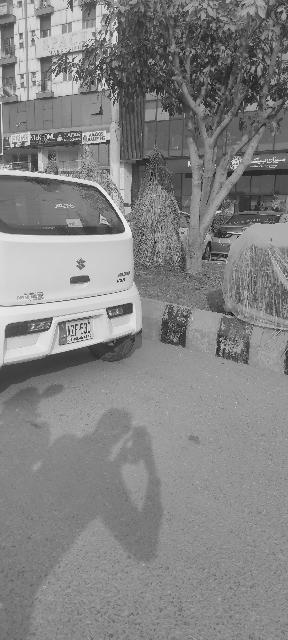Number: (66, 321, 92, 338)
